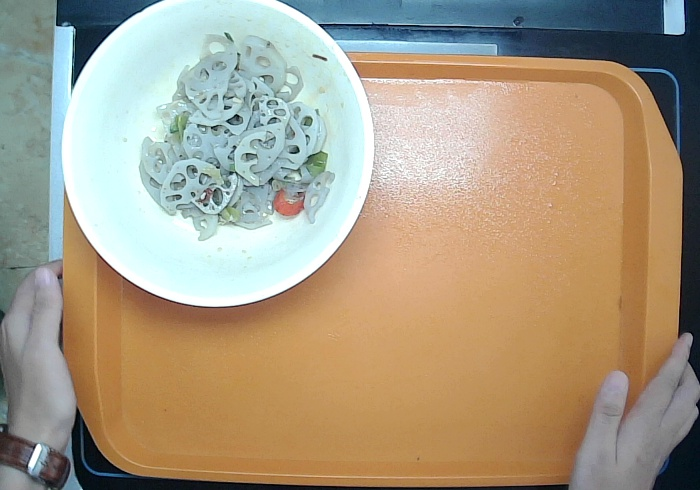ZNLD-Da_Tang_Wan: (58, 1, 377, 310)
